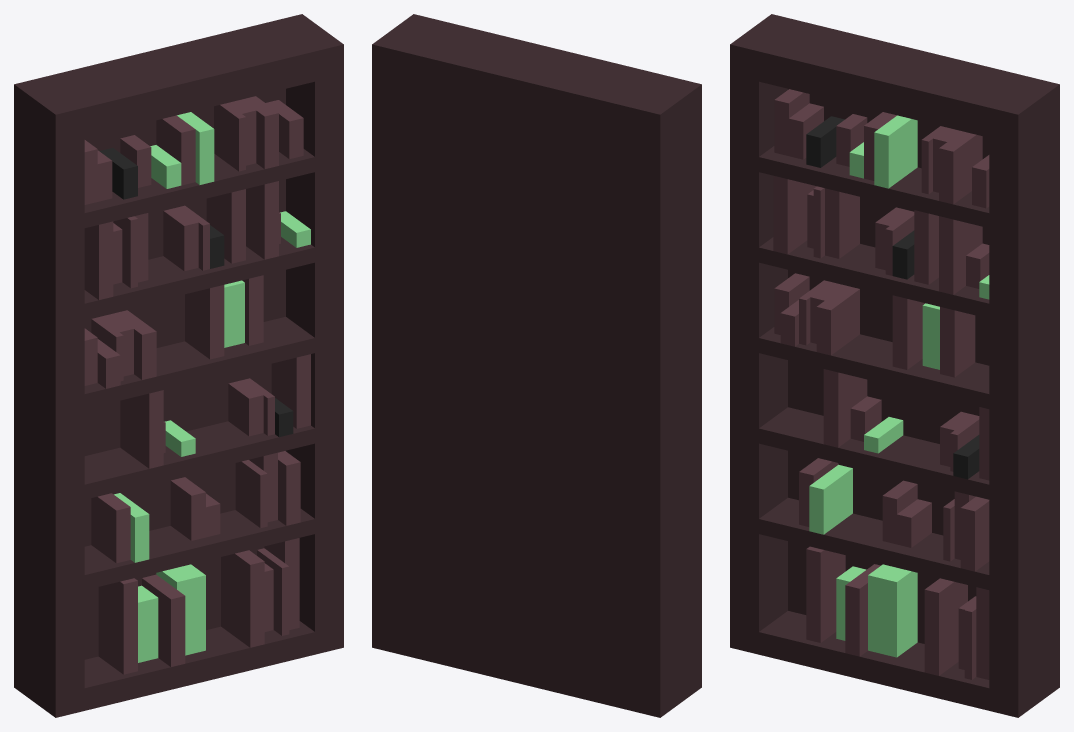
File: bookshelf.obj
3 views of the same model, side by side, from view 1: azimuth 30°, elevation 25°; view 2: azimuth 150°, elevation 25°; view 3: azimuth 330°, elevation 25° (orthographic).
Visible parts, largest first — view 1: bookshelf; view 2: bookshelf; view 3: bookshelf.
Part boxes in pixels (x1,y1,x2,y2): bookshelf: [14, 14, 343, 717]; bookshelf: [372, 14, 701, 717]; bookshelf: [730, 14, 1059, 717].
Bounding box in the file's own units: 40 × 80 × 10.
Materials: 1 (1 with a texture image).
